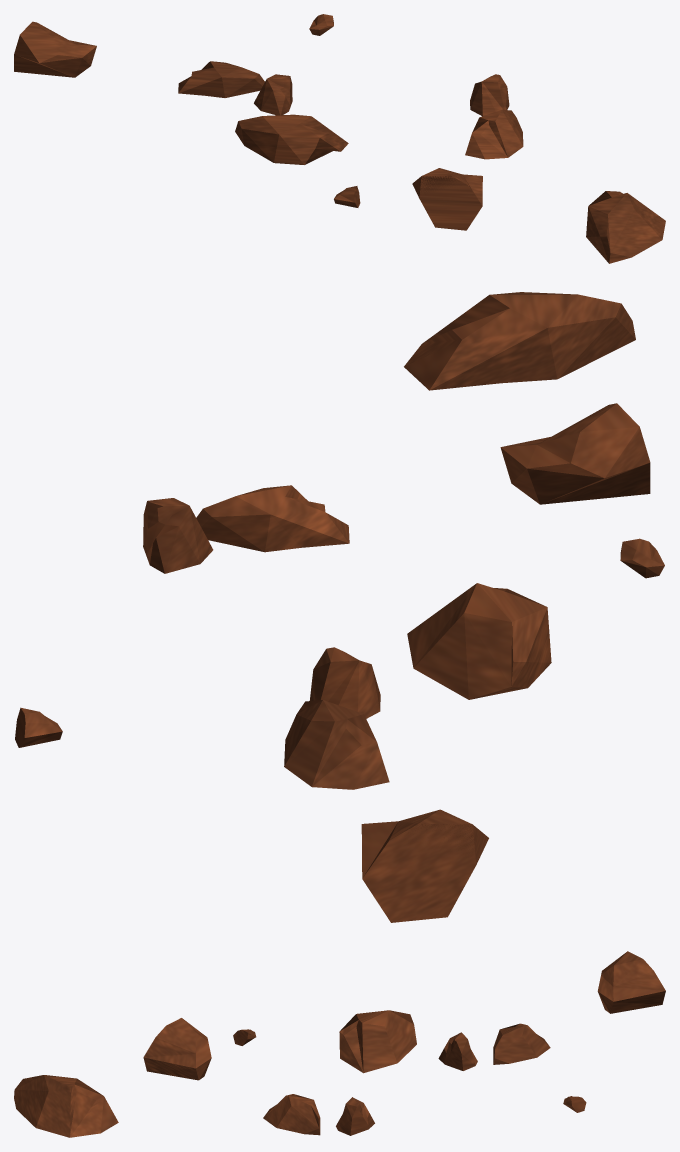
Rendered from rocas.fbx.
3 renders of one model, top to bottom at view 1: azimuth 30°, elevation 25°; view 2: azimuth 150°, elevation 25°; view 3: azimuth 270°, elevation 25°, orthographic. The views are drawn at different scales.
Parts seen in each view (by area): view 1: RocksGroup.007; view 2: RocksGroup.007; view 3: RocksGroup.007.
Boxes of the visible parts, box(x1,y1,x2,y2) form: RocksGroup.007: box(14, 14, 665, 263); RocksGroup.007: box(15, 292, 664, 922); RocksGroup.007: box(14, 951, 665, 1137).
Size of the model in its own units: 402 by 56.32 by 737.
1 material, 1 textured.
